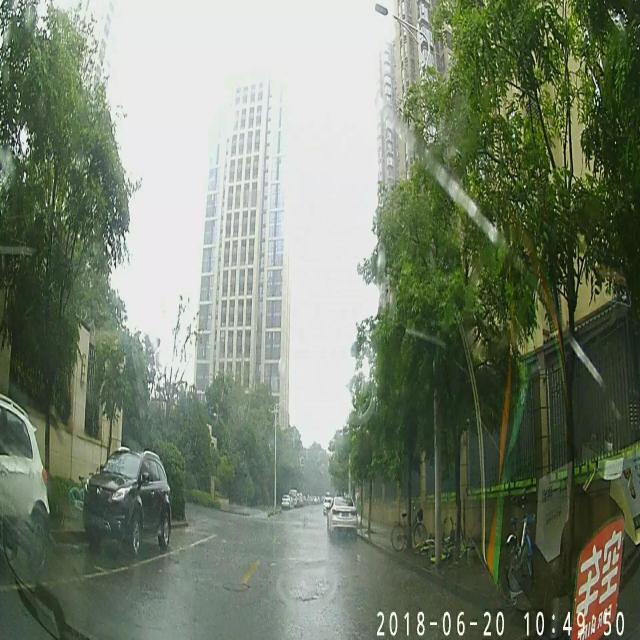car: (82, 444, 170, 553), (0, 390, 49, 568), (508, 488, 532, 588), (326, 494, 358, 540)
